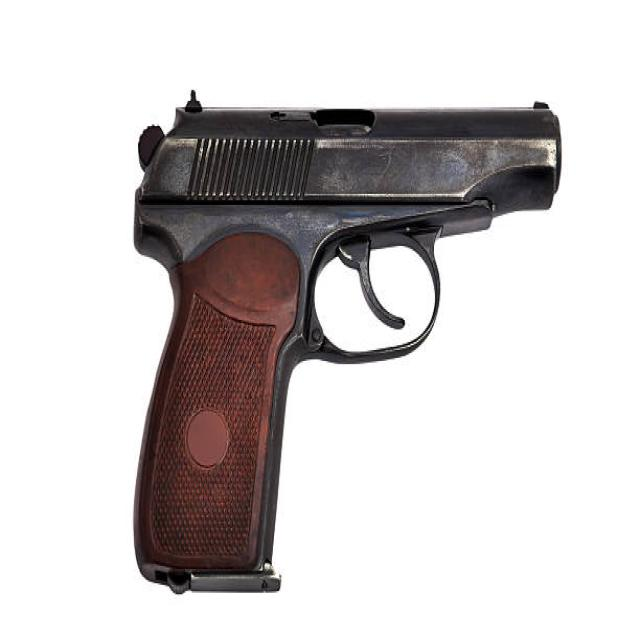pistol: (123, 87, 568, 599)
